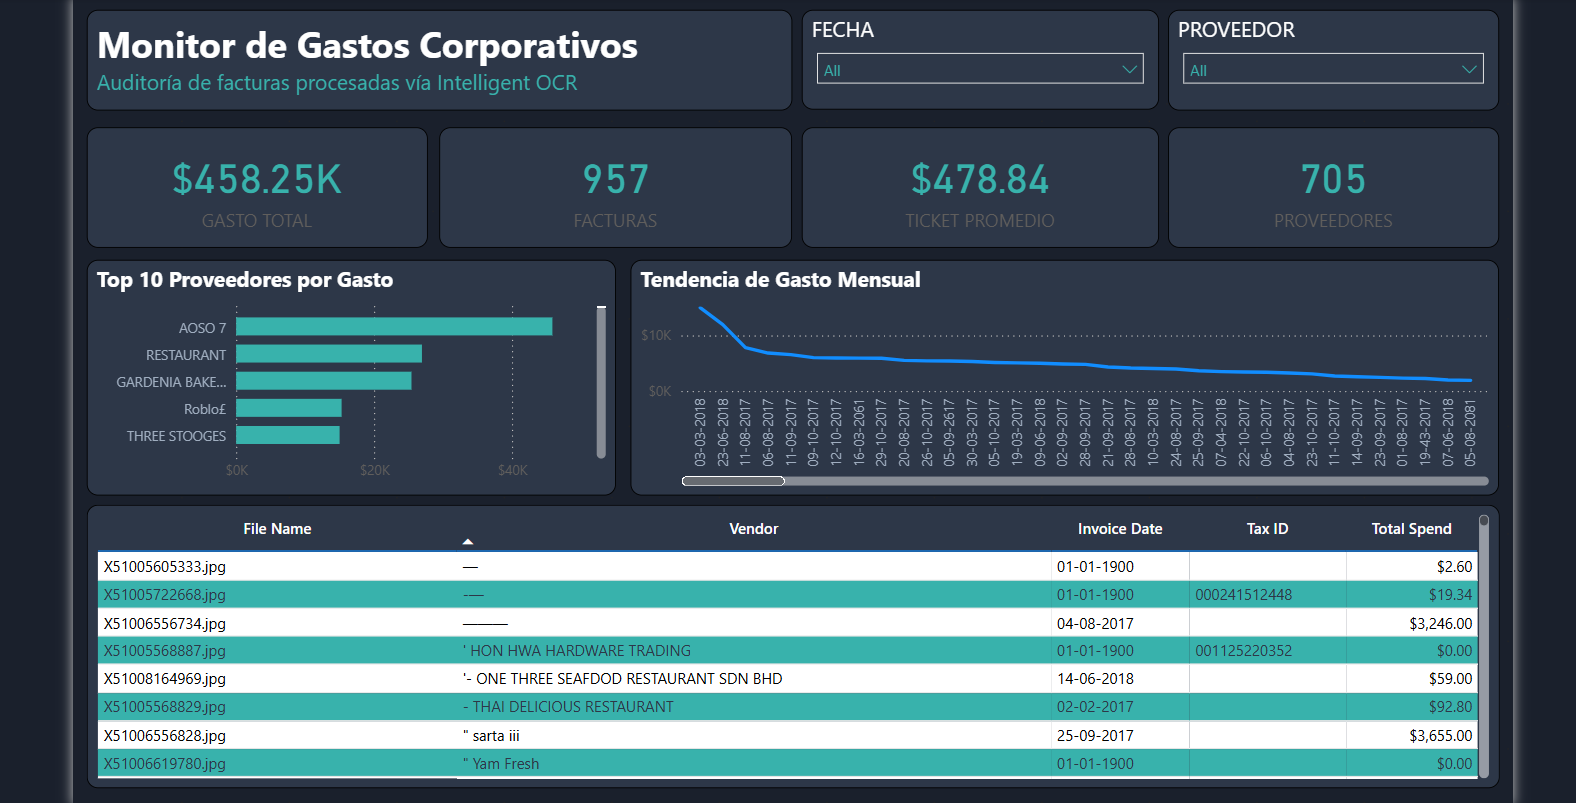

The page's visual inventory and layout, read from the dashboard file:
{"tool":"powerbi","page":{"name":"Dashboard","canvas":[1280,720],"ordinal":0},"visuals":[{"type":"card","fields":{"Values":["df.Total Spend"]},"box":[12.1,117,302.8,107.4],"z":0},{"type":"card","fields":{"Values":["df.Facturas Procesadas"]},"box":[325.7,117,313.7,107.4],"z":1000},{"type":"card","fields":{"Values":["df.Ticket Promedio"]},"box":[647.9,117,317.3,107.4],"z":2000},{"type":"card","fields":{"Values":["df.Proveedores Activos"]},"box":[973.6,117,294.4,107.4],"z":3000},{"type":"barChart","title":"Top 10 Proveedores por Gasto","fields":{"Category":["df.vendor"],"Y":["df.Total Spend"]},"box":[12.1,234,470.5,209.9],"z":4000},{"type":"lineClusteredColumnComboChart","title":"Tendencia de Gasto Mensual","fields":{"Category":["df.invoice_date"],"Y2":["df.Total Spend"]},"box":[495.8,234,772.1,209.9],"z":5000},{"type":"tableEx","title":"Registro Detallado de Facturas","fields":{"Values":["df.filename","df.vendor","df.invoice_date","df.tax_id","df.Total Spend"]},"box":[12.1,452.4,1255.9,252.1],"z":6000},{"type":"slicer","title":"PROVEEDOR","fields":{"Values":["df.vendor"]},"box":[973.6,12.1,294.4,89.3],"z":7000},{"type":"textbox","box":[12.1,12.1,627.3,89.3],"z":8000},{"type":"slicer","title":"FECHA","fields":{"Values":["df.invoice_date"]},"box":[647.8,12.2,317.8,88.9],"z":8001}]}

Visuals, with their boxes on the page's 1280x720 design canvas (x1, y1, x2, y2). These are canvas units, not pixel positions in the 1576x803 screenshot, which may show the page scaled, cropped or inside an application window:
card - df.Total Spend: {"x1": 12, "y1": 117, "x2": 315, "y2": 224}
card - df.Facturas Procesadas: {"x1": 326, "y1": 117, "x2": 639, "y2": 224}
card - df.Ticket Promedio: {"x1": 648, "y1": 117, "x2": 965, "y2": 224}
card - df.Proveedores Activos: {"x1": 974, "y1": 117, "x2": 1268, "y2": 224}
"Top 10 Proveedores por Gasto" barChart: {"x1": 12, "y1": 234, "x2": 483, "y2": 444}
"Tendencia de Gasto Mensual" lineClusteredColumnComboChart: {"x1": 496, "y1": 234, "x2": 1268, "y2": 444}
"Registro Detallado de Facturas" tableEx: {"x1": 12, "y1": 452, "x2": 1268, "y2": 704}
"PROVEEDOR" slicer: {"x1": 974, "y1": 12, "x2": 1268, "y2": 101}
textbox: {"x1": 12, "y1": 12, "x2": 639, "y2": 101}
"FECHA" slicer: {"x1": 648, "y1": 12, "x2": 966, "y2": 101}
